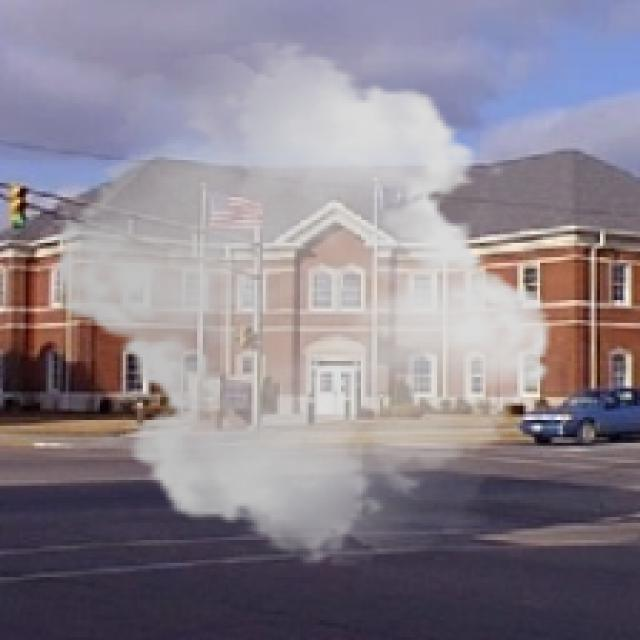Smoke: (34, 43, 572, 566)
